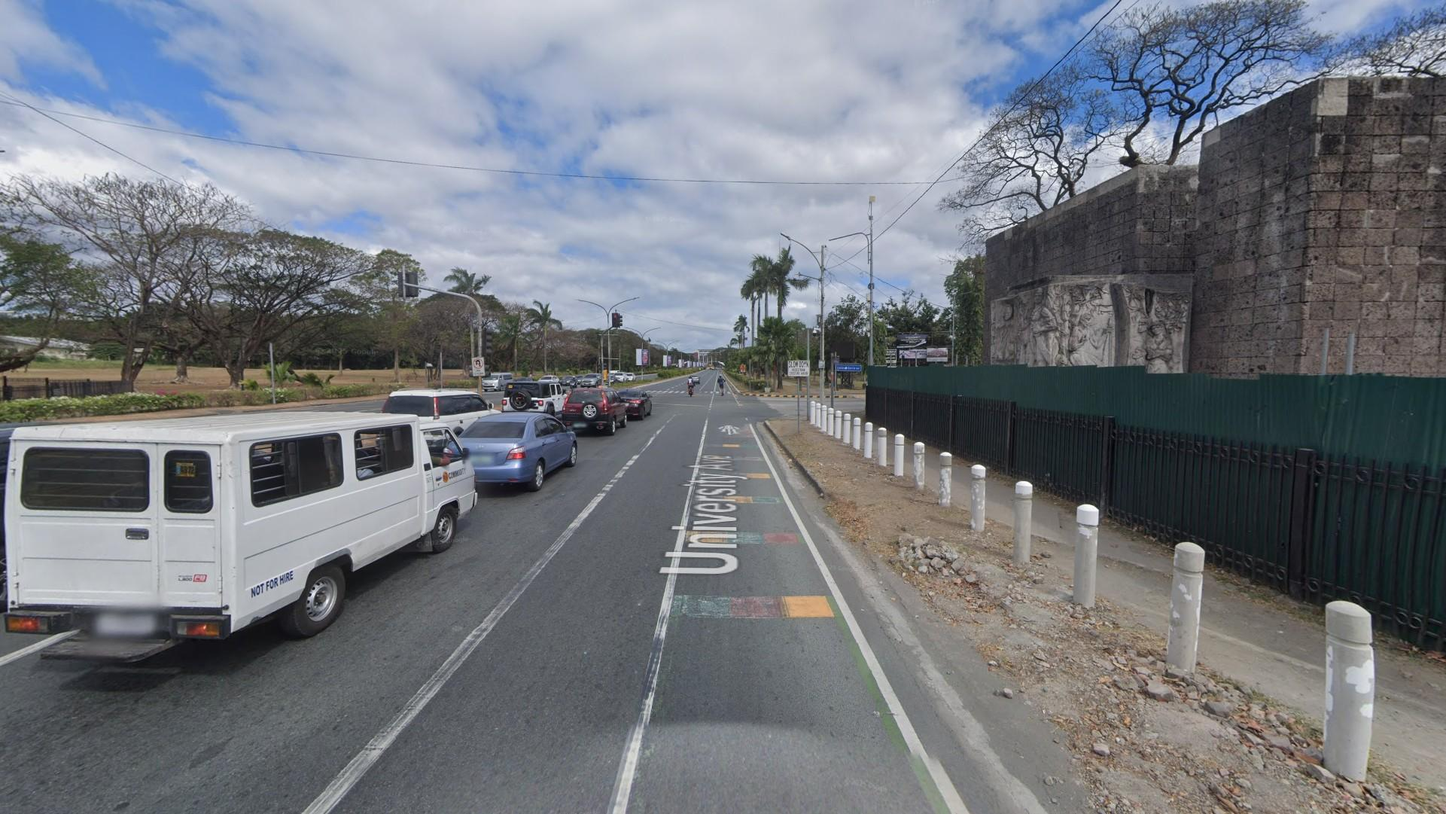cyclist: (686, 376, 696, 398), (717, 374, 726, 397)
